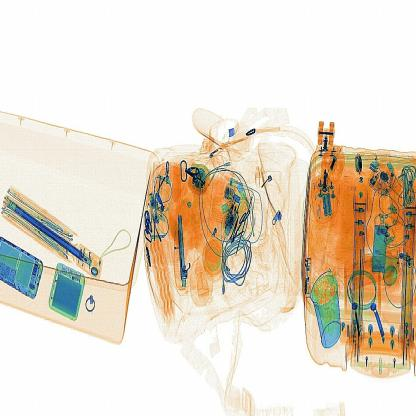pliers: (172, 209, 188, 302)
